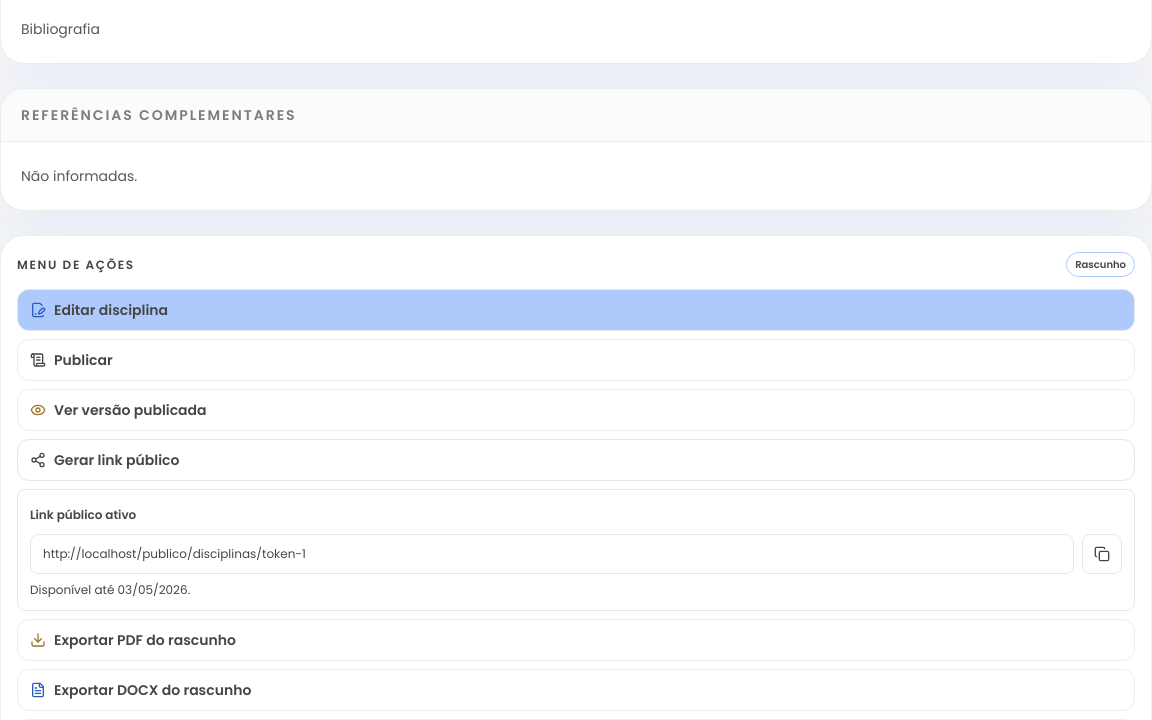
Scenario: DisciplineDetailsPage › deve exibir status das assinaturas no dialogo de publicacao
The width and height of the screenshot is (1152, 720).
(page scrolled)
Click the button "Publicar" at (83, 360), box x1=17 y1=339 x2=1135 y2=381
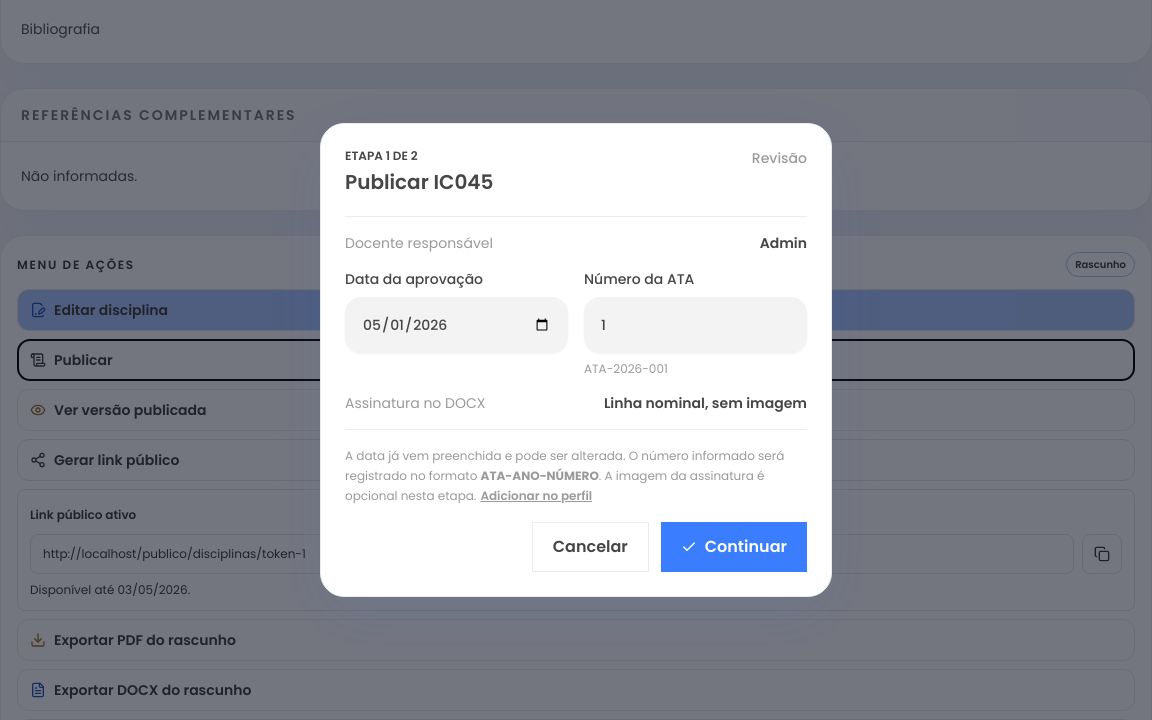
Expected: the text "Linha nominal, sem imagem" is shown, x1=584 y1=393 x2=807 y2=413
Expected: the button "Continuar" is enabled, x1=661 y1=522 x2=807 y2=572
